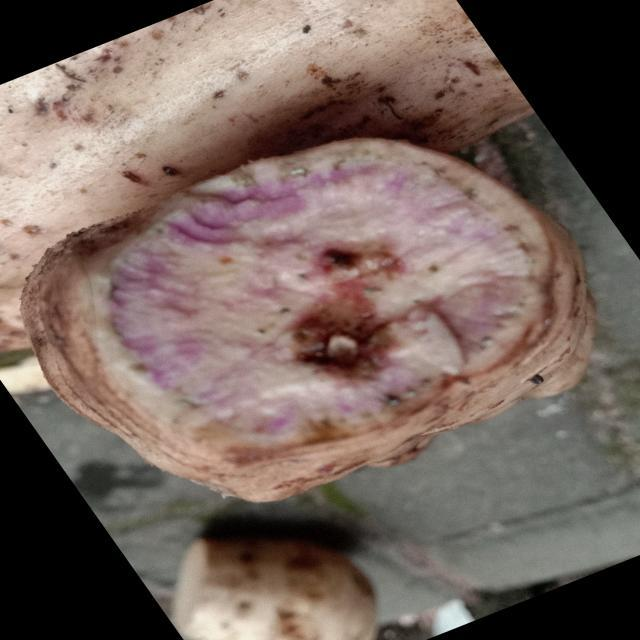Sick Sweet Potato_Tuber Rot: (95, 140, 548, 445)
